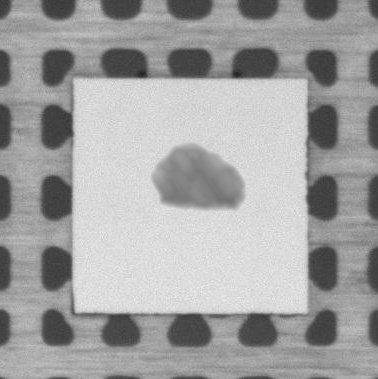DIE_INK: (152, 141, 249, 215)
